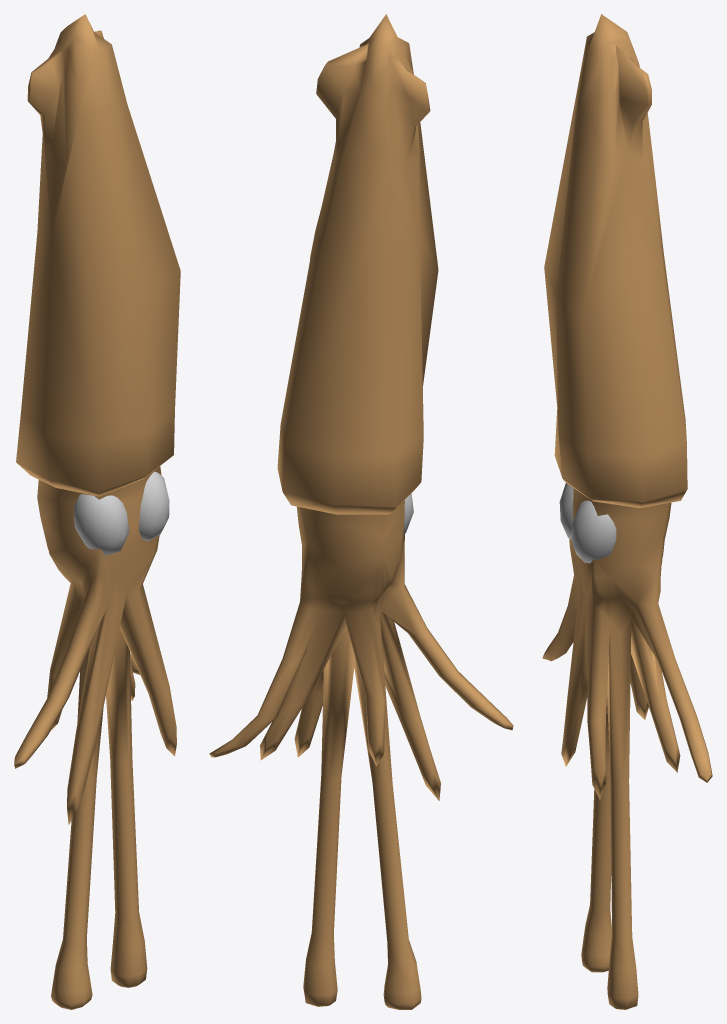
The model's file is SQUID1.obj.
The picture shows the model from 3 angles, left to right: view 1: azimuth 30°, elevation 25°; view 2: azimuth 150°, elevation 25°; view 3: azimuth 270°, elevation 25°; orthographic projection. The views are drawn at different scales.
Visible parts, largest first — view 1: Sid_Cube.001, Sphere_Sphere.002, Sphere.001; view 2: Sid_Cube.001; view 3: Sid_Cube.001, Sphere.001, Sphere_Sphere.002.
Boxes of the visible parts, box(x1,y1,x2,y2) form: Sid_Cube.001: box(14, 14, 180, 1009); Sphere_Sphere.002: box(74, 494, 129, 555); Sphere.001: box(138, 471, 169, 541); Sid_Cube.001: box(209, 14, 513, 1009); Sid_Cube.001: box(542, 14, 712, 1009); Sphere.001: box(570, 500, 616, 563); Sphere_Sphere.002: box(559, 483, 573, 538).
Size of the model in its own units: 1.18 by 5.06 by 0.8081.
